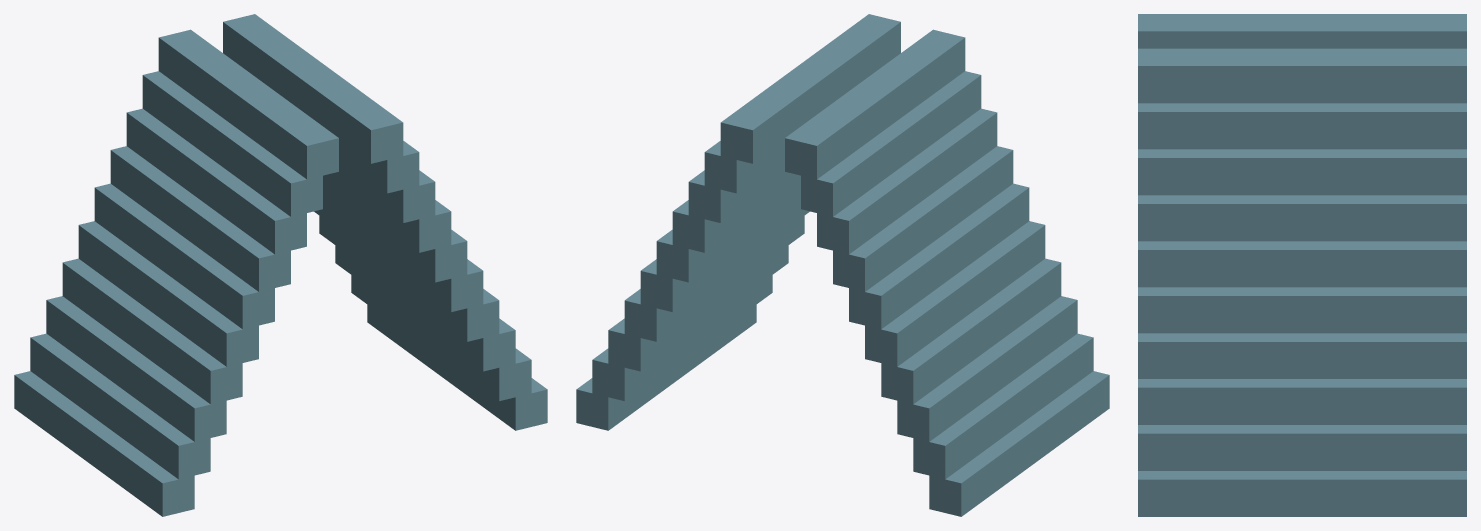
Rendered from travel-13.glb.
The picture shows the model from 3 angles, left to right: view 1: azimuth 30°, elevation 25°; view 2: azimuth 150°, elevation 25°; view 3: azimuth 270°, elevation 25°; orthographic projection. The views are drawn at different scales.
Parts seen in each view (by area): view 1: Camp tent; view 2: Camp tent; view 3: Camp tent.
Part boxes in pixels (x1,y1,x2,y2): Camp tent: (14, 14, 547, 516); Camp tent: (576, 14, 1109, 516); Camp tent: (1138, 14, 1466, 516).
Bounding box in the file's own units: 1.92 × 1.6 × 1.28.
